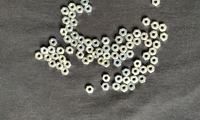nut: (151, 21, 160, 30), (150, 30, 159, 39), (133, 37, 142, 46), (142, 18, 151, 26), (153, 40, 161, 49), (149, 47, 157, 56), (151, 56, 159, 65), (147, 65, 155, 74), (132, 67, 140, 76), (131, 75, 139, 84), (115, 75, 123, 84), (120, 28, 128, 37), (115, 36, 124, 44), (61, 7, 70, 15), (70, 18, 78, 27), (65, 24, 74, 32), (76, 51, 85, 59), (49, 38, 58, 46), (159, 24, 167, 32), (161, 33, 169, 41), (145, 39, 153, 47), (141, 33, 149, 41), (143, 52, 151, 60), (139, 75, 147, 83), (134, 60, 142, 68), (128, 83, 136, 91), (123, 69, 131, 77), (123, 77, 131, 85), (113, 83, 121, 91), (102, 83, 110, 91), (86, 86, 94, 94), (134, 30, 142, 38), (126, 34, 134, 42), (120, 45, 128, 53), (119, 53, 127, 61), (112, 44, 120, 52), (111, 52, 119, 60), (114, 59, 122, 67), (102, 37, 110, 45), (103, 52, 111, 60), (92, 39, 100, 47), (86, 55, 94, 63), (82, 57, 90, 65), (86, 46, 94, 54), (77, 36, 85, 44), (85, 5, 93, 13), (76, 5, 84, 13), (69, 3, 77, 11), (68, 11, 76, 19), (60, 28, 68, 36), (77, 44, 85, 52), (70, 39, 78, 47), (66, 46, 74, 54), (57, 47, 65, 55), (59, 55, 67, 63), (61, 68, 69, 76), (48, 60, 56, 68), (48, 46, 56, 54), (44, 54, 52, 62), (35, 52, 43, 60), (121, 84, 128, 93), (126, 42, 135, 49), (126, 51, 135, 58), (140, 66, 147, 74), (103, 75, 111, 82), (103, 45, 111, 52), (103, 60, 110, 68), (96, 48, 103, 56), (85, 39, 93, 46), (63, 17, 70, 25), (71, 32, 79, 39), (64, 36, 72, 43), (64, 61, 71, 69), (56, 63, 64, 70), (51, 53, 59, 60), (41, 47, 48, 55), (152, 0, 161, 6), (98, 58, 105, 65), (93, 51, 100, 58), (81, 0, 89, 6)
